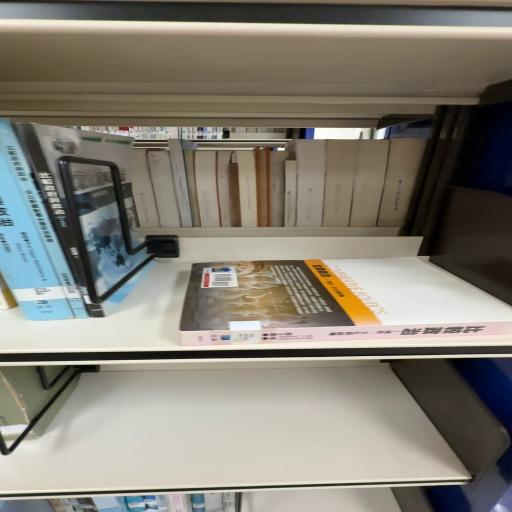flat: (181, 259, 512, 347)
